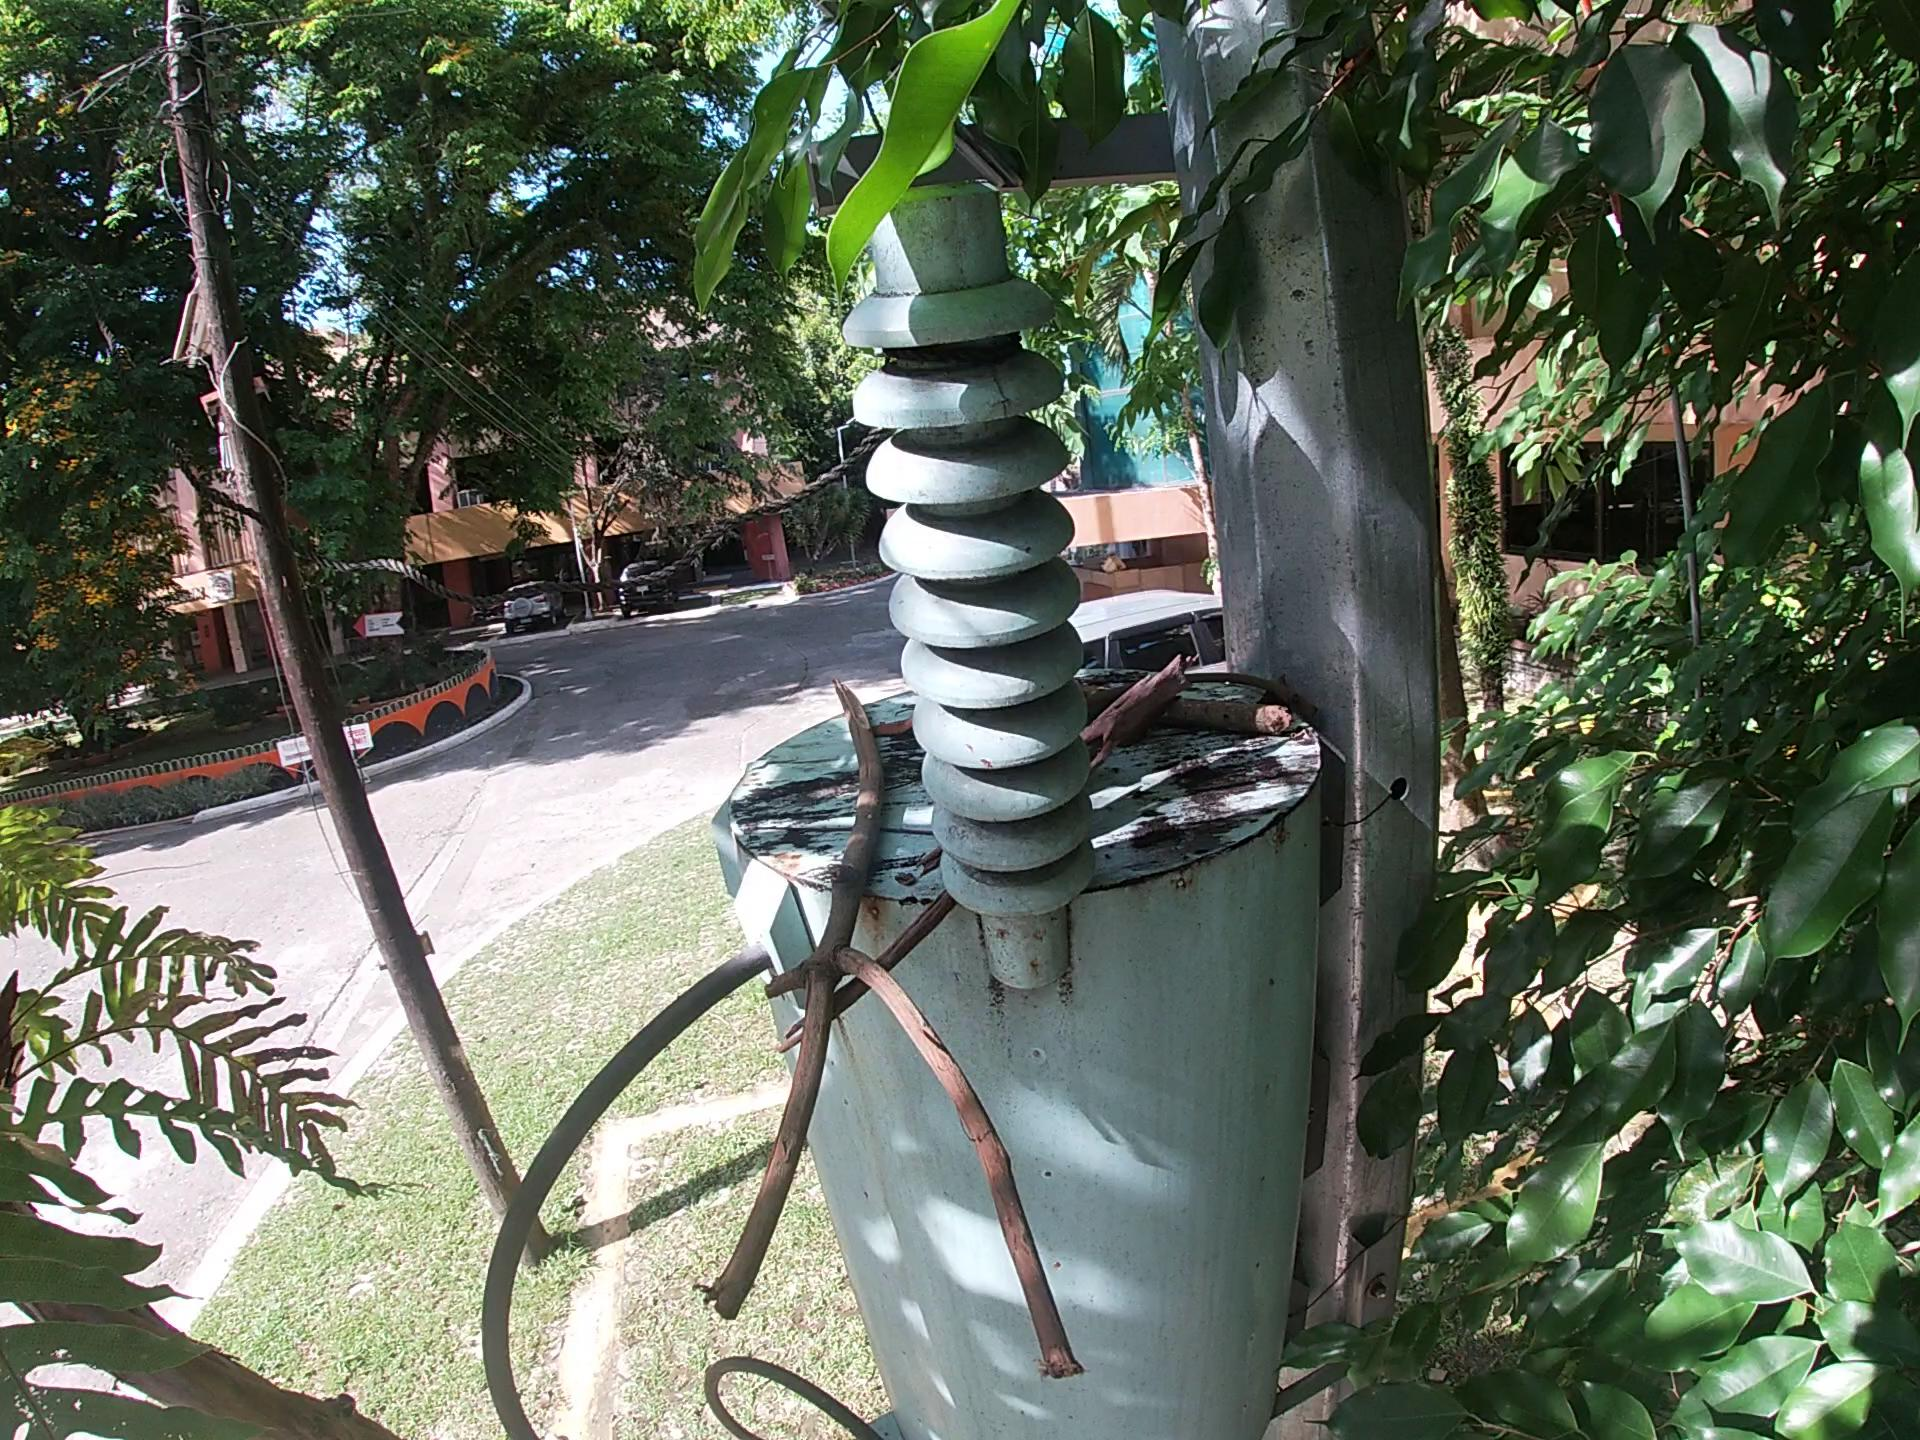leaf: (1116, 691, 1182, 758)
tree branch: (683, 669, 1092, 1386), (770, 882, 966, 1059), (1079, 646, 1194, 781), (1076, 681, 1299, 737), (1179, 661, 1324, 722)
